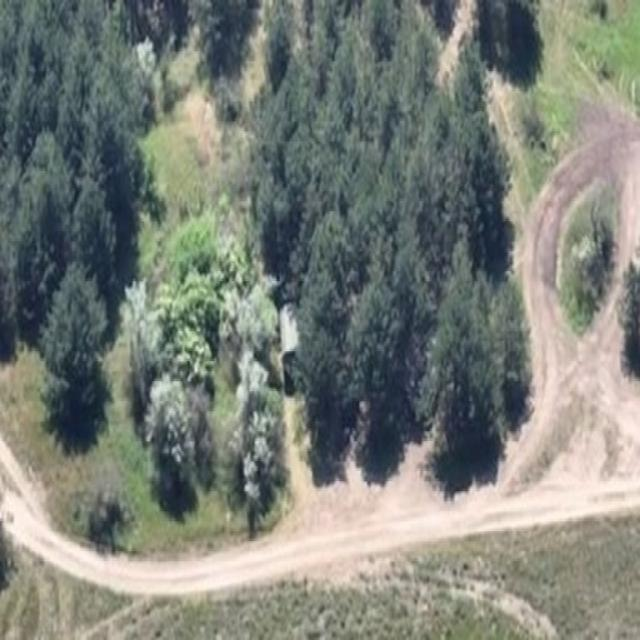TRUCK: (275, 269, 306, 380)
